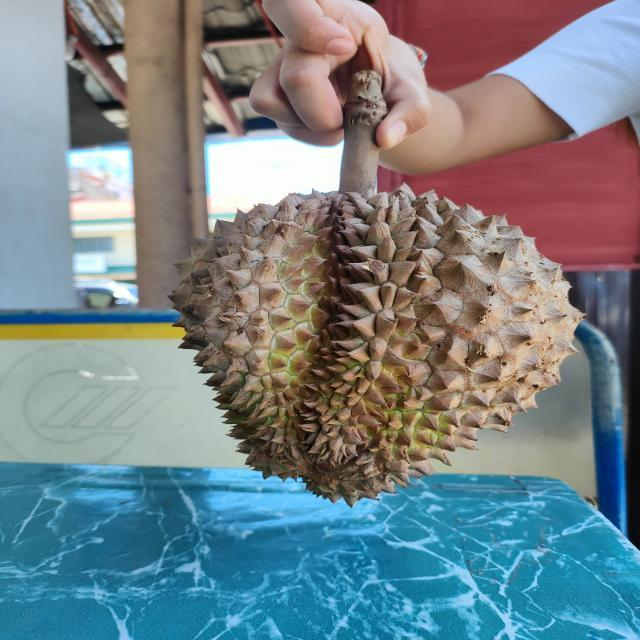mature: (161, 180, 593, 516)
